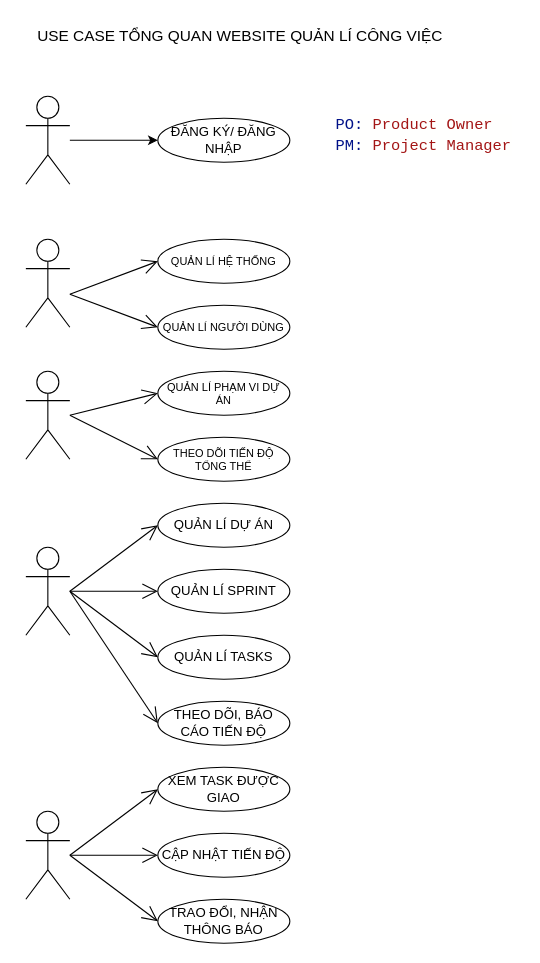
Some shapes in this 540 by 963 pixel diagram are drawn without their labels. Each missing label, with the box of its shape:
ADMIN: (25, 238, 70, 327)
GUEST: (25, 95, 70, 184)
MEMBER: (25, 810, 70, 899)
PM: (25, 546, 70, 635)
PO: (25, 370, 70, 459)
